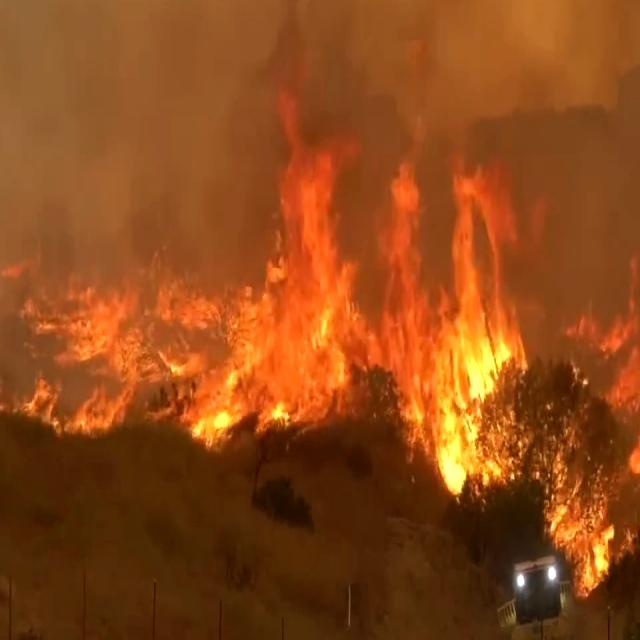fire: (234, 72, 358, 441), (418, 161, 524, 498), (37, 244, 210, 398), (353, 158, 437, 408), (586, 305, 640, 519)
